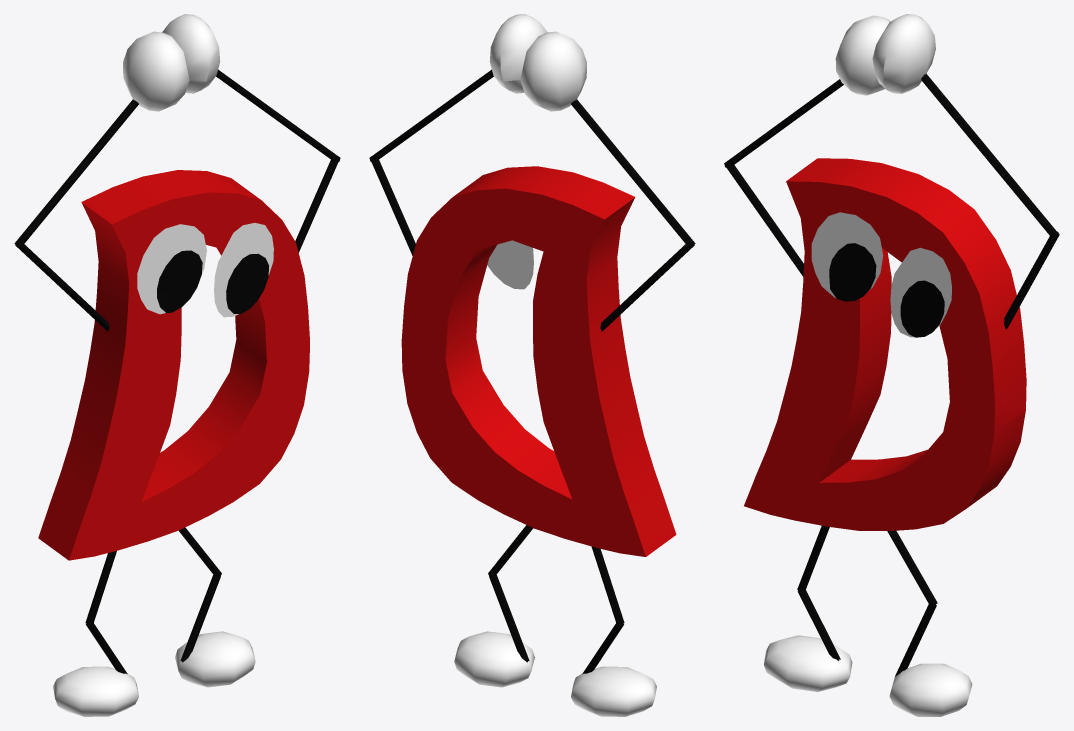
File: Dman.fbx
The picture shows the model from 3 angles, left to right: view 1: azimuth 30°, elevation 25°; view 2: azimuth 150°, elevation 25°; view 3: azimuth 330°, elevation 25°; orthographic projection. The views are drawn at different scales.
Parts seen in each view (by area): view 1: obj; view 2: obj; view 3: obj.
Part boxes in pixels (x1,y1,x2,y2): obj: (14, 14, 340, 716); obj: (369, 14, 695, 716); obj: (724, 14, 1059, 716).
Size of the model in its own units: 187 by 369 by 41.25.
